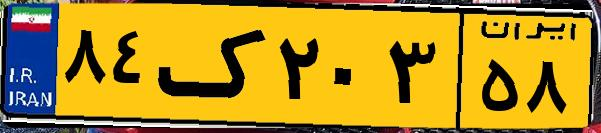0: (330, 28, 385, 110)
2: (270, 28, 330, 110)
3: (385, 28, 445, 110)
4: (110, 28, 158, 98)
5: (475, 38, 525, 113)
8: (57, 26, 110, 100), (525, 38, 570, 115)
ک: (158, 12, 270, 120)
